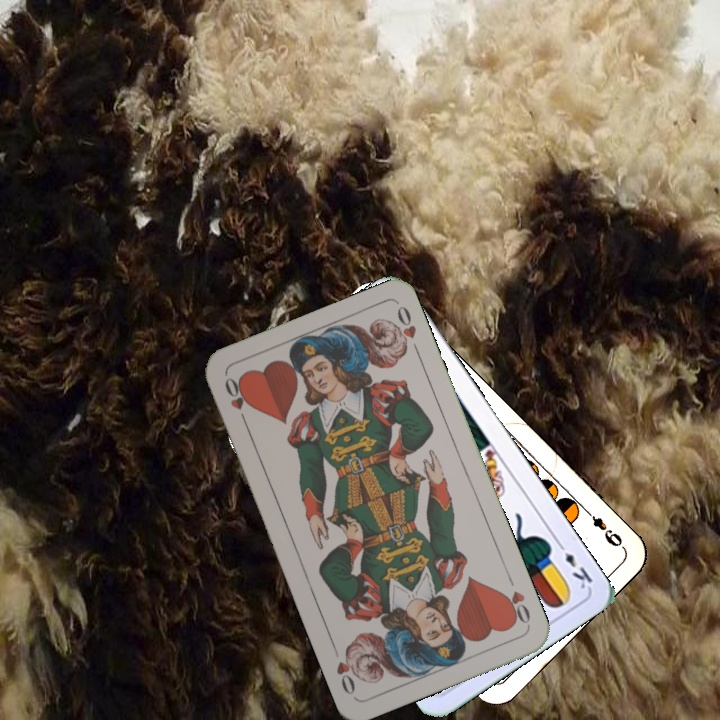E9: (581, 505, 627, 551)
EK: (552, 537, 596, 592)
HO: (498, 571, 533, 628), (220, 372, 252, 429)
